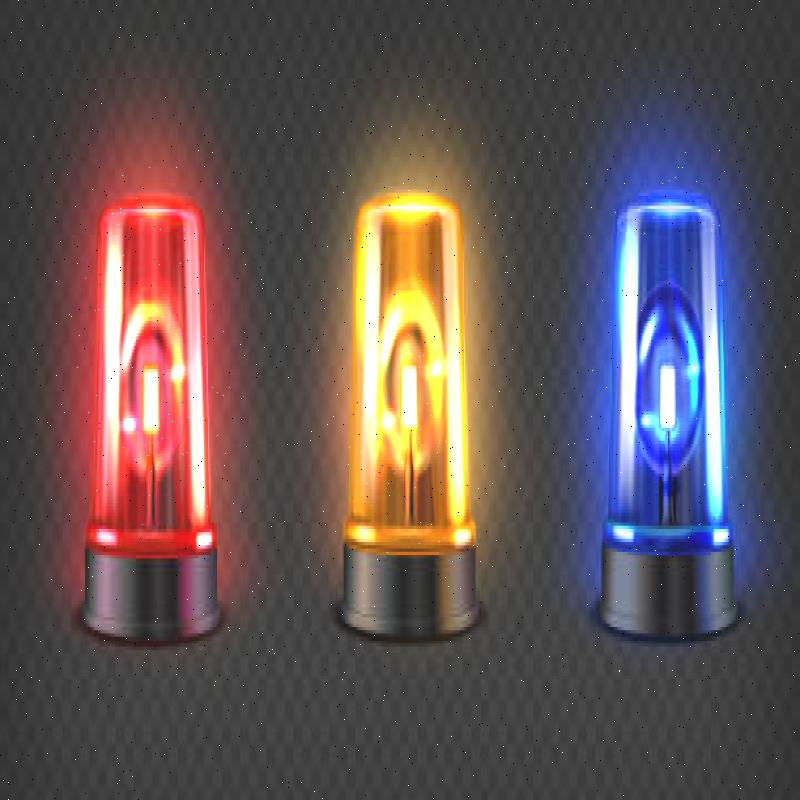AmbulanceSiren: (590, 171, 746, 699), (79, 165, 239, 670)
